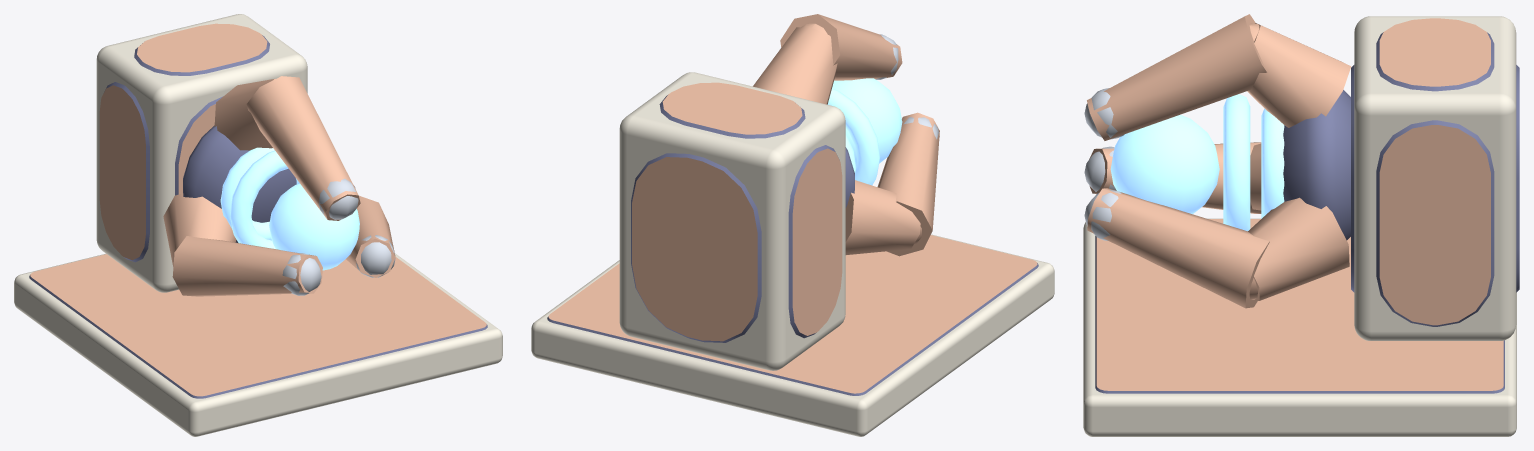
File: R4X_DirectionalEMP.fbx
3 views of the same model, side by side, from view 1: azimuth 30°, elevation 25°; view 2: azimuth 150°, elevation 25°; view 3: azimuth 270°, elevation 25° (orthographic). The views are drawn at different scales.
Visible parts, largest first — view 1: R4X_DirectionalEMP_Body; view 2: R4X_DirectionalEMP_Body; view 3: R4X_DirectionalEMP_Body.
Part boxes in pixels (<box>): R4X_DirectionalEMP_Body: <box>14,14,502,436</box>; R4X_DirectionalEMP_Body: <box>531,14,1054,436</box>; R4X_DirectionalEMP_Body: <box>1083,14,1519,436</box>.
Size of the model in its own units: 0.514 by 0.4373 by 0.517.
